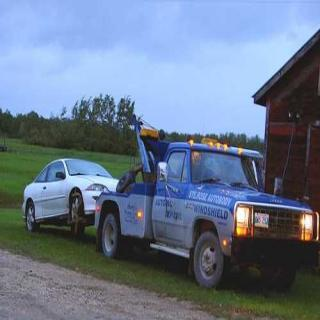Towing_truck: (93, 112, 319, 291)
